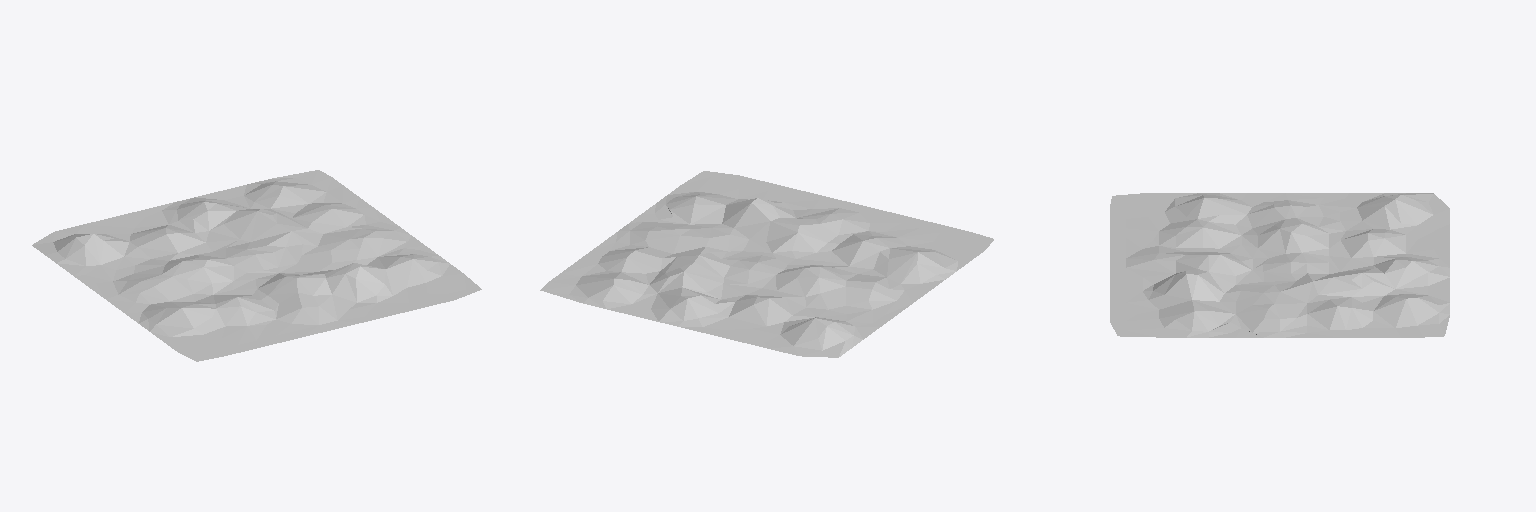
Rendered from SandHill5_BM.obj.
The picture shows the model from 3 angles: view 1: azimuth 30°, elevation 25°; view 2: azimuth 150°, elevation 25°; view 3: azimuth 270°, elevation 25°; orthographic projection.
Visible parts, largest first — view 1: Col_Mesh.013; view 2: Col_Mesh.013; view 3: Col_Mesh.013.
Part boxes in pixels (x1,y1,x2,y2): Col_Mesh.013: (32, 170, 481, 361); Col_Mesh.013: (540, 171, 993, 357); Col_Mesh.013: (1110, 193, 1449, 337).
Size of the model in its own units: 10 by 0.6395 by 10.